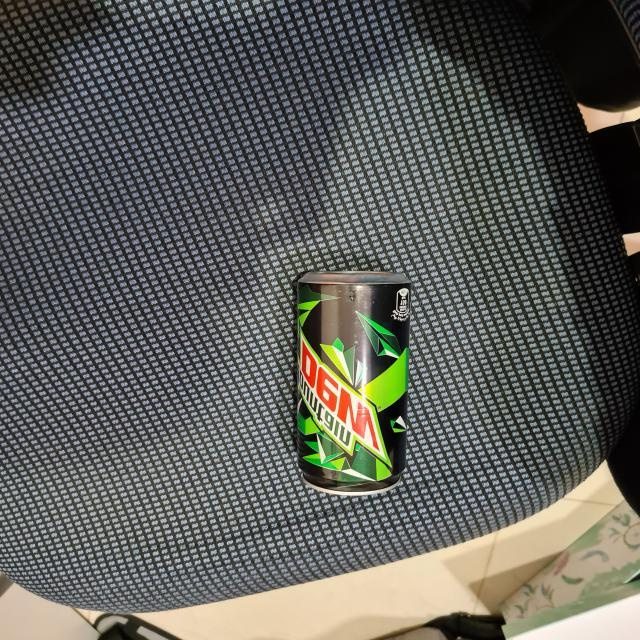can: (292, 269, 419, 495)
